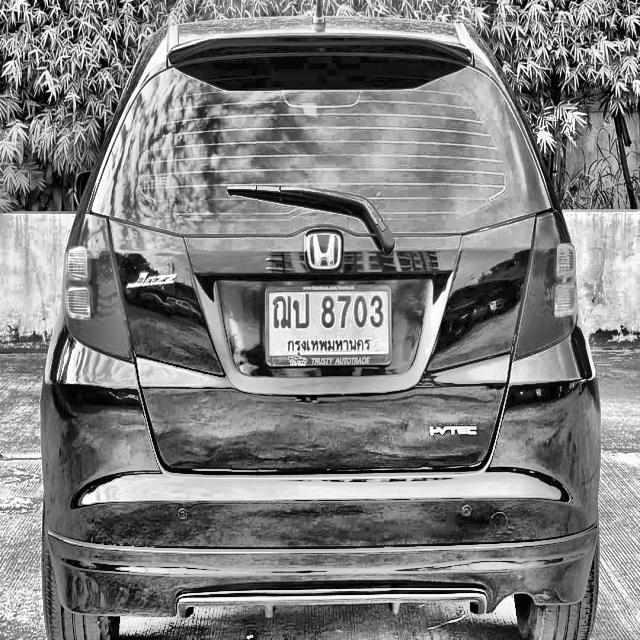license-plate: (264, 283, 393, 367)
